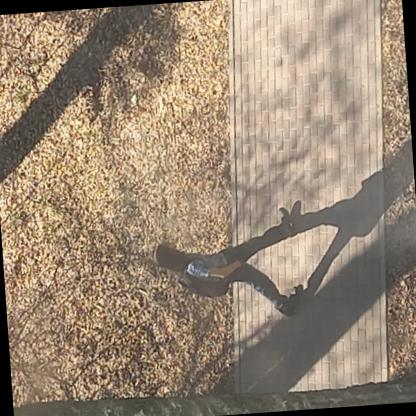Human Body: (142, 200, 308, 335)
